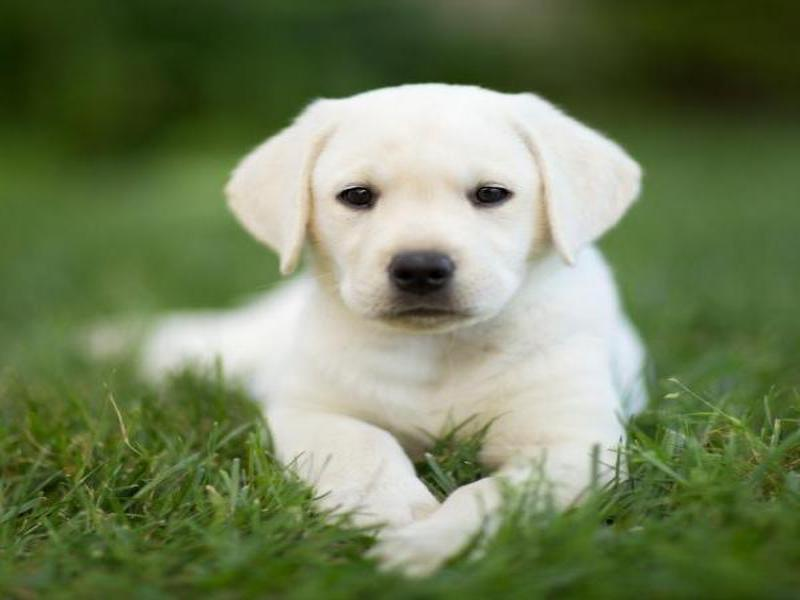dog_down: (112, 78, 663, 584)
